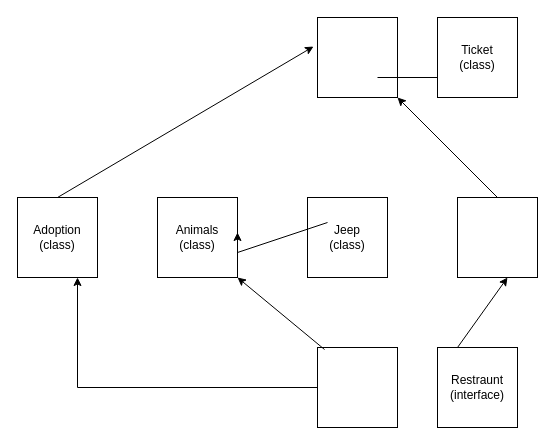
This 555x445 diagram has some shape labels left out. The shapes that lost their labels are listed below. From the top down, each one's centre as x and y in pixels, then its label:
At point (357, 57): "Main (class)".
At point (497, 237): "Food (class)".
At point (357, 387): "Zoo_welcome (interface)".
